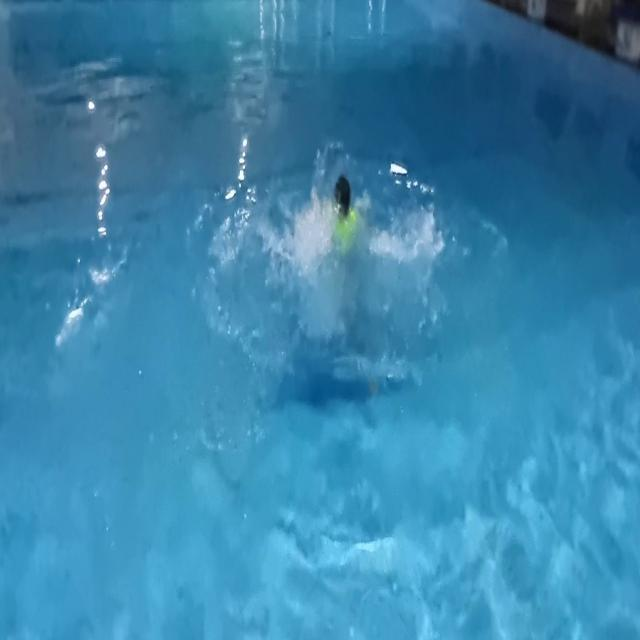Drowning: (276, 110, 403, 344)
